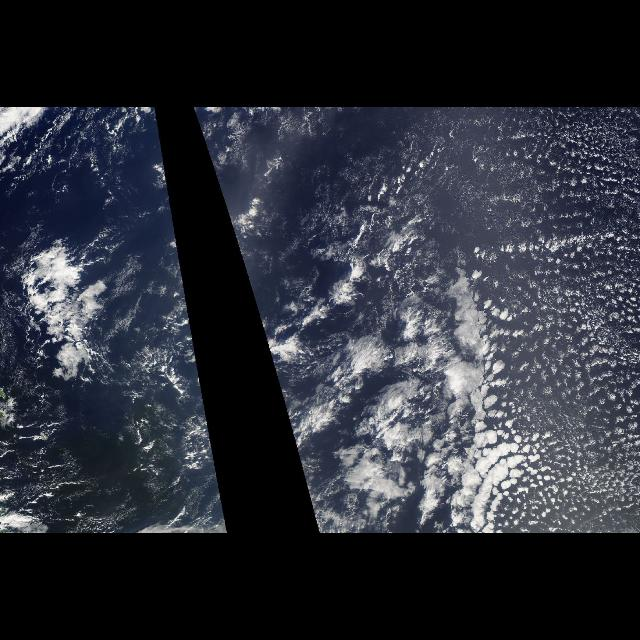Flower: (414, 119, 638, 533)
Gravel: (474, 121, 640, 533)
